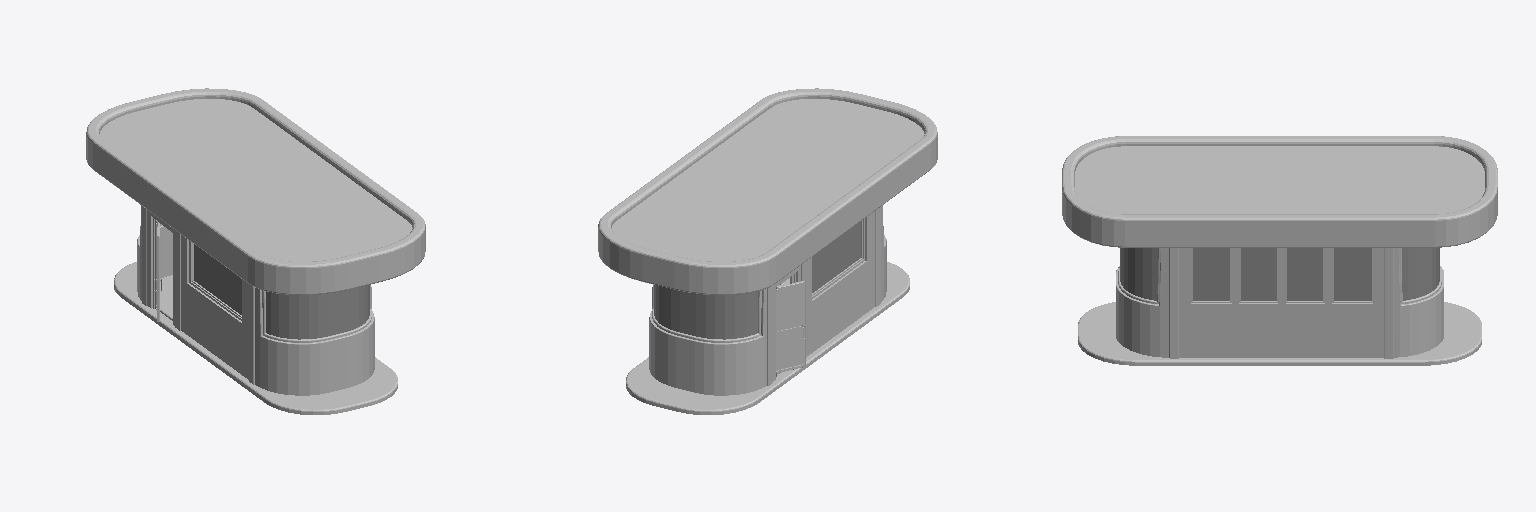
File: Model_Security_Room.obj
3 renders of one model, left to right at view 1: azimuth 30°, elevation 25°; view 2: azimuth 150°, elevation 25°; view 3: azimuth 270°, elevation 25°, orthographic.
Parts seen in each view (by area): view 1: Base_02_0, Base_01_0, Base_Glass_0; view 2: Base_02_0, Base_01_0, Base_Glass_0, _1_3__0_Door_0; view 3: Base_02_0, Base_01_0, Base_Glass_0.
Part boxes in pixels (left/top/right/bottom): Base_02_0: left=86, top=88, right=425, bottom=395; Base_01_0: left=114, top=206, right=397, bottom=414; Base_Glass_0: left=194, top=244, right=369, bottom=339; Base_02_0: left=598, top=88, right=937, bottom=395; Base_01_0: left=626, top=207, right=909, bottom=414; Base_Glass_0: left=654, top=221, right=860, bottom=339; _1_3__0_Door_0: left=776, top=281, right=805, bottom=374; Base_02_0: left=1062, top=136, right=1497, bottom=357; Base_01_0: left=1078, top=248, right=1481, bottom=365; Base_Glass_0: left=1120, top=248, right=1439, bottom=300.
Bounding box in the file's own units: 4.64 × 4.1 × 10.24.